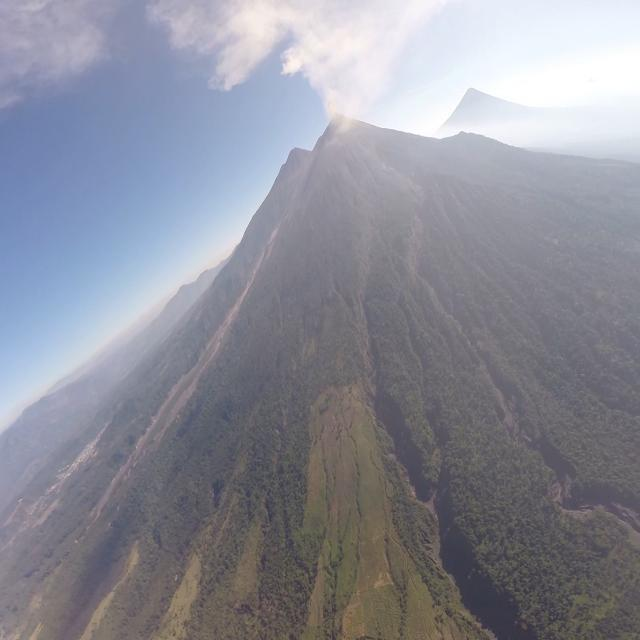Plume: (326, 98, 336, 115)
Summit: (322, 106, 356, 136)
